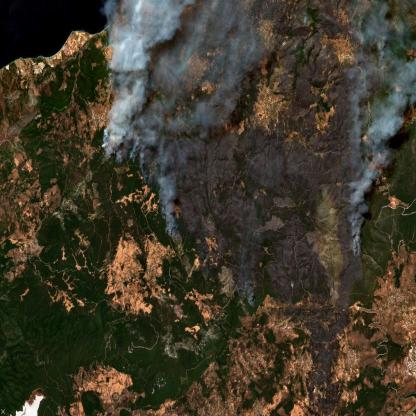fire: (97, 0, 265, 318), (316, 0, 390, 293)
